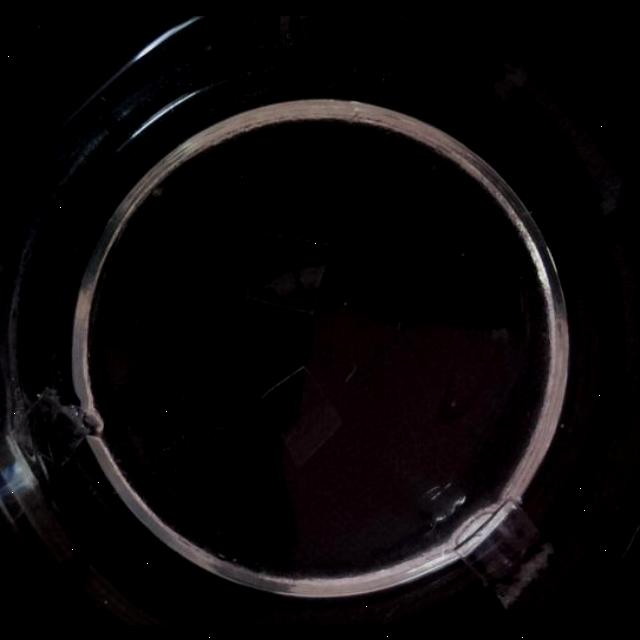Film: (456, 498, 556, 612), (254, 358, 344, 470), (2, 384, 96, 474), (244, 229, 336, 315)
